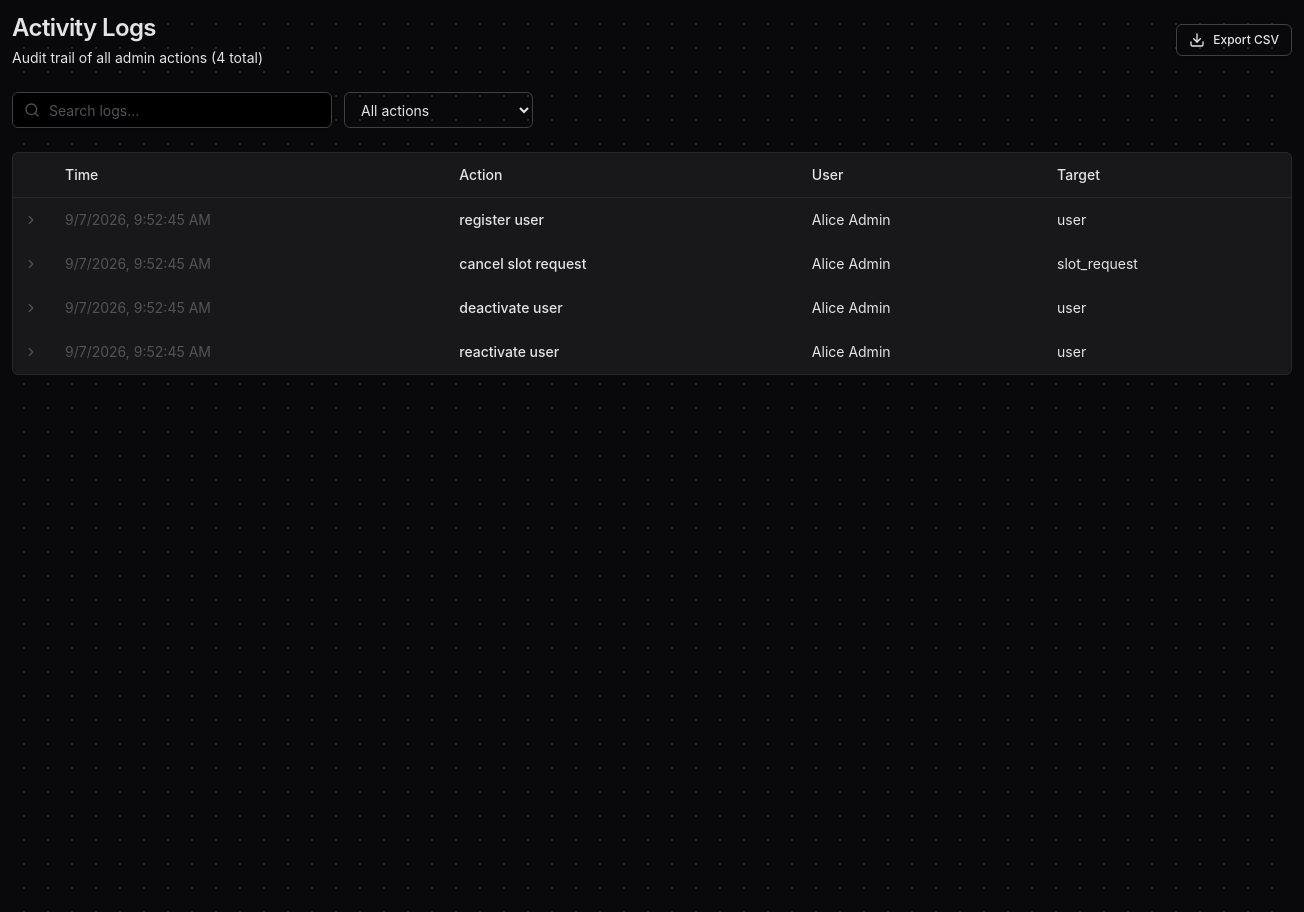
Test: T-M3-4.E.2 — Audit-log visibility scenario › expanding a log entry reveals details metadata with correct keys
Check: the text "register user" is shown, box [459,211,544,228]
Click the button named "expand log details" in the row of "register user": [31, 220] box [21,210,41,230]
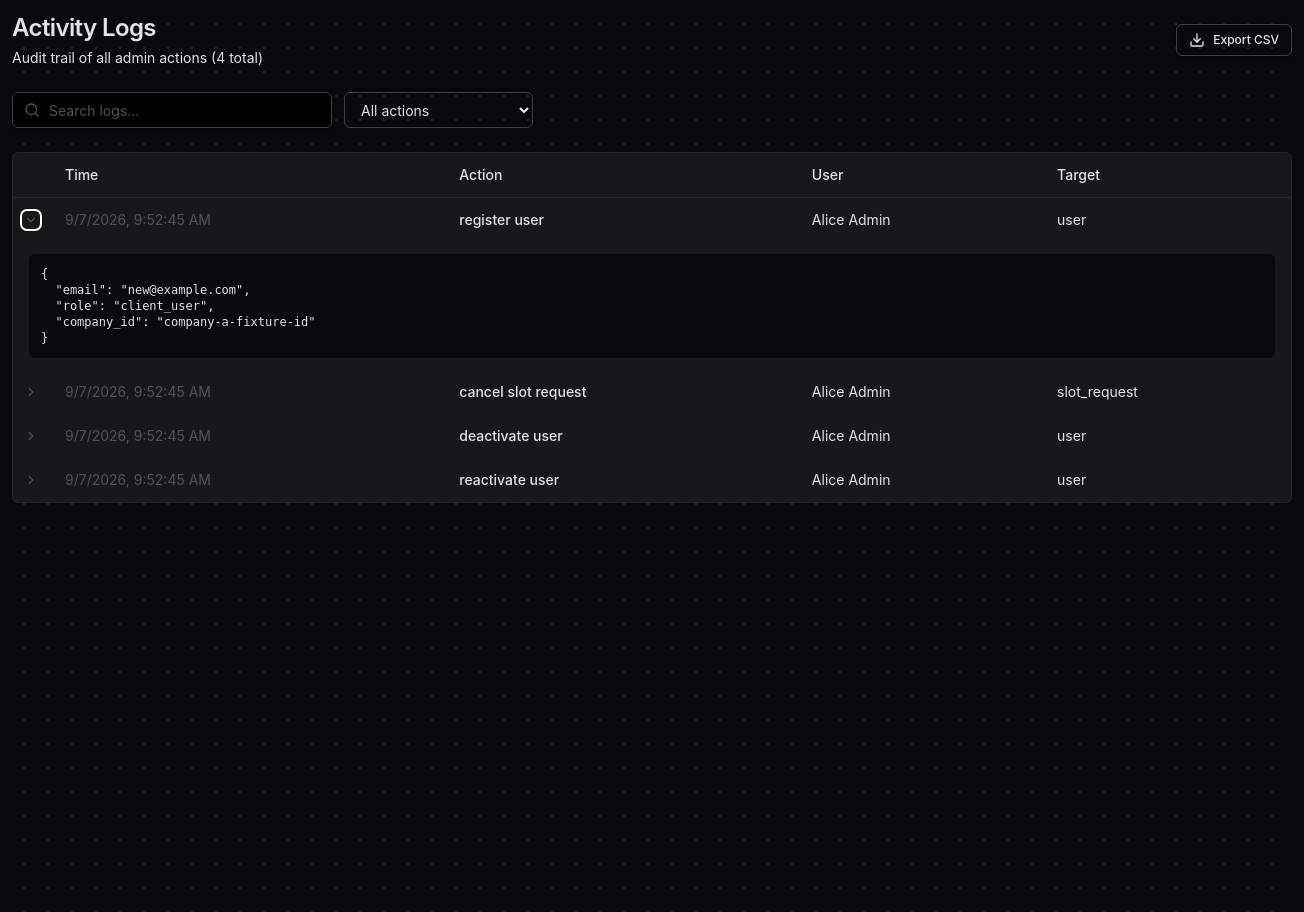
Check: the text "\"company_id\"" is shown, box [41,267,316,345]
